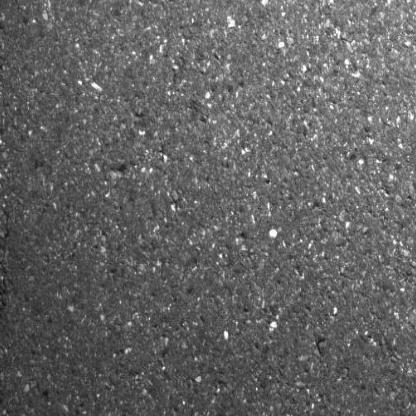Cracks: (0, 0, 15, 393)
